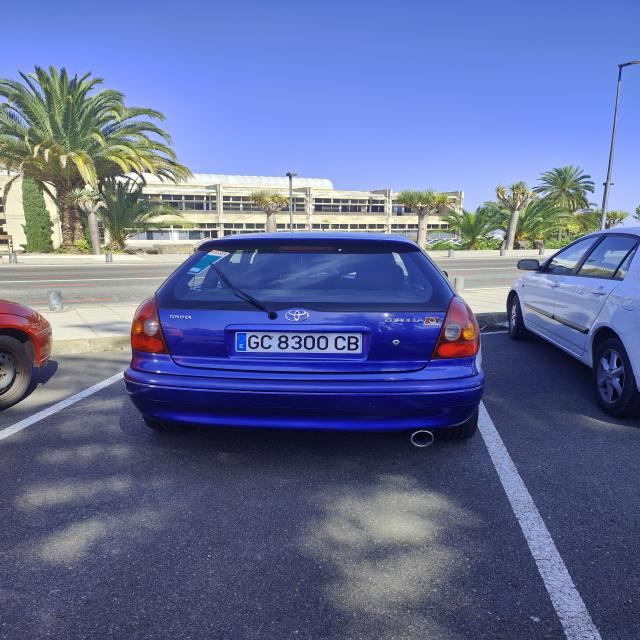License-Plate: (235, 332, 363, 354)
